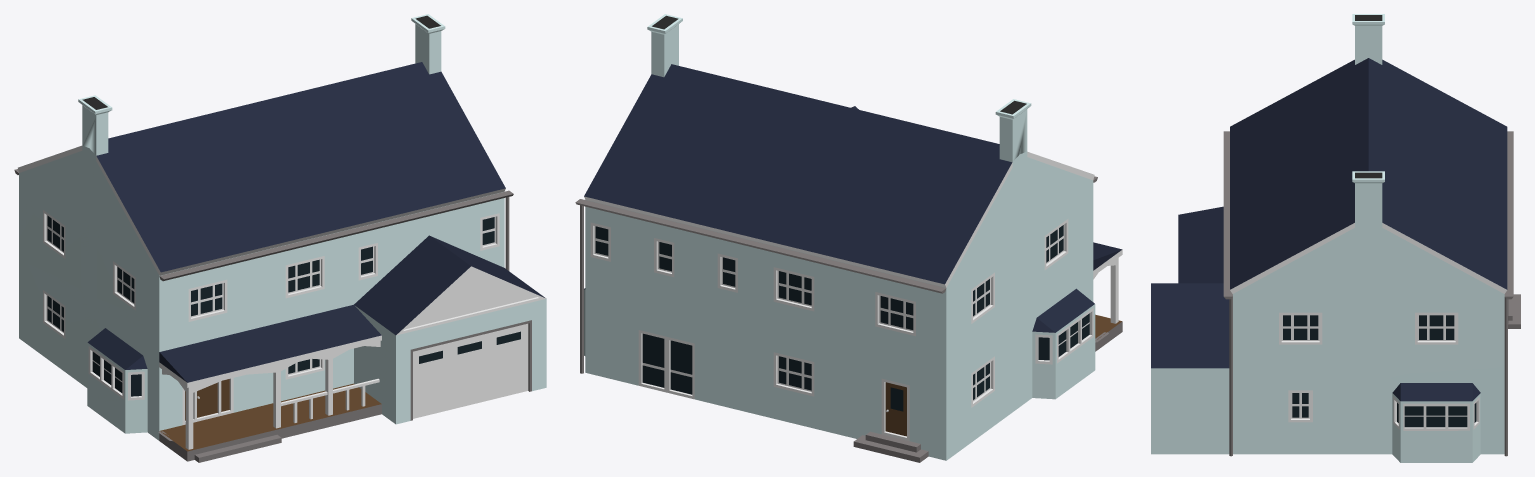
The model's file is building-house-family-large.glb.
3 renders of one model, left to right at view 1: azimuth 30°, elevation 25°; view 2: azimuth 150°, elevation 25°; view 3: azimuth 270°, elevation 25°, orthographic. The views are drawn at different scales.
Visible parts, largest first — view 1: building-house-family-large; view 2: building-house-family-large; view 3: building-house-family-large.
Boxes of the visible parts, x1,y1,x2,y2 form: building-house-family-large: [14, 14, 546, 462]; building-house-family-large: [575, 14, 1122, 462]; building-house-family-large: [1151, 14, 1520, 462].
Size of the model in its own units: 15.68 by 11.2 by 13.6.
1 material, 1 textured.
